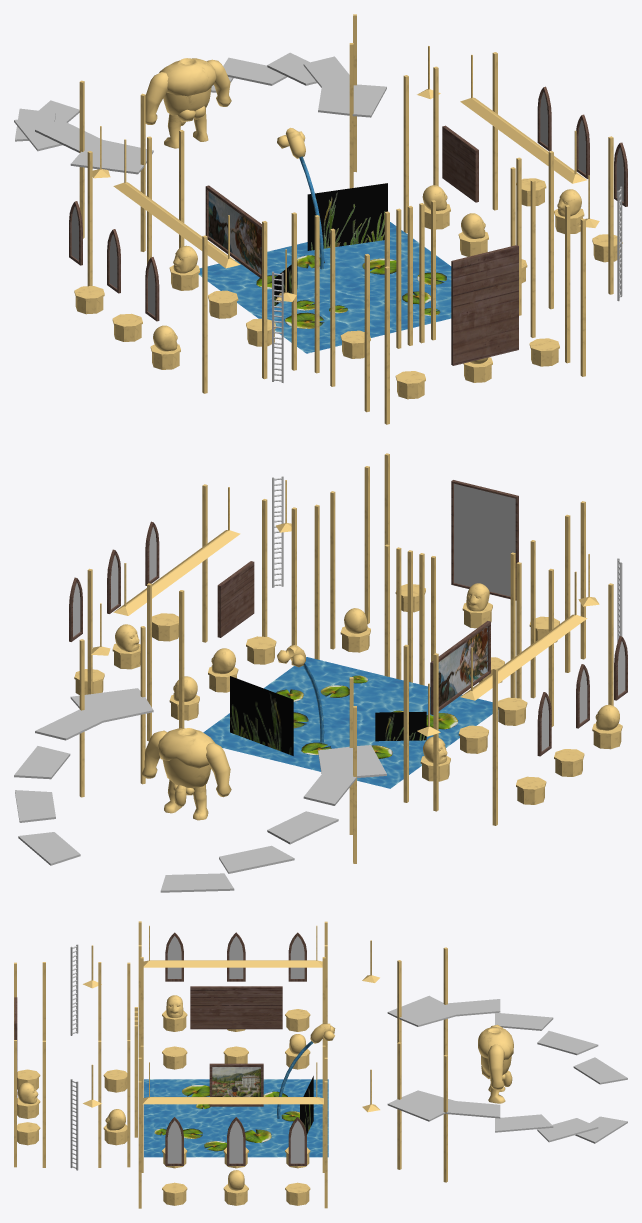
File: passthrough.obj
3 renders of one model, top to bottom at view 1: azimuth 30°, elevation 25°; view 2: azimuth 150°, elevation 25°; view 3: azimuth 270°, elevation 25°, orthographic. The views are drawn at different scales.
Parts seen in each view (by area): view 1: Bars, Plane, Pedestals, Palace_2, Painting_3, Body, Lights, Lilypad.009, Painting_1, Window_1, Window_2, Painting_2 (+2 smaller); view 2: Bars, Palace_2, Plane, Pedestals, Painting_3, Body, Lights, Lilypad.009, Painting_1, Window_1, Window_2, Painting_2 (+3 smaller); view 3: Bars, Palace_2, Plane, Pedestals, Painting_1, Lights, Window_2, Window_1, Body, Painting_2, Ladder, Body.001 (+1 smaller).
Part boxes in pixels (x1,y1,x2,y2): Bars: (79,14,613,424); Plane: (198,222,451,353); Pedestals: (74,178,622,399); Palace_2: (14,52,386,174); Painting_3: (451,245,518,365); Body: (145,58,231,148); Lights: (92,46,599,301); Lilypad.009: (307,183,387,250); Painting_1: (205,185,261,278); Window_1: (69,201,159,321); Window_2: (537,86,627,206); Painting_2: (442,125,478,202); Bars: (79,453,613,863); Palace_2: (14,688,386,892); Plane: (203,657,498,788); Pedestals: (74,584,622,804); Painting_3: (451,480,518,600); Body: (142,728,231,820); Lights: (91,480,599,736); Lilypad.009: (230,676,293,755); Painting_1: (430,621,490,714); Window_1: (537,636,627,756); Window_2: (69,521,159,641); Painting_2: (217,561,254,637); Bars: (14,921,447,1208); Palace_2: (387,995,627,1143); Plane: (144,1079,328,1157); Pedestals: (17,1009,310,1205); Painting_1: (190,986,282,1029); Lights: (83,925,379,1112); Window_2: (165,1117,306,1165); Window_1: (165,932,306,981); Body: (478,1024,513,1103); Painting_2: (209,1063,263,1106); Ladder: (70,944,78,1170); Body.001: (277,1023,335,1118).
Size of the model in its own units: 28.55 by 9.69 by 39.93.
